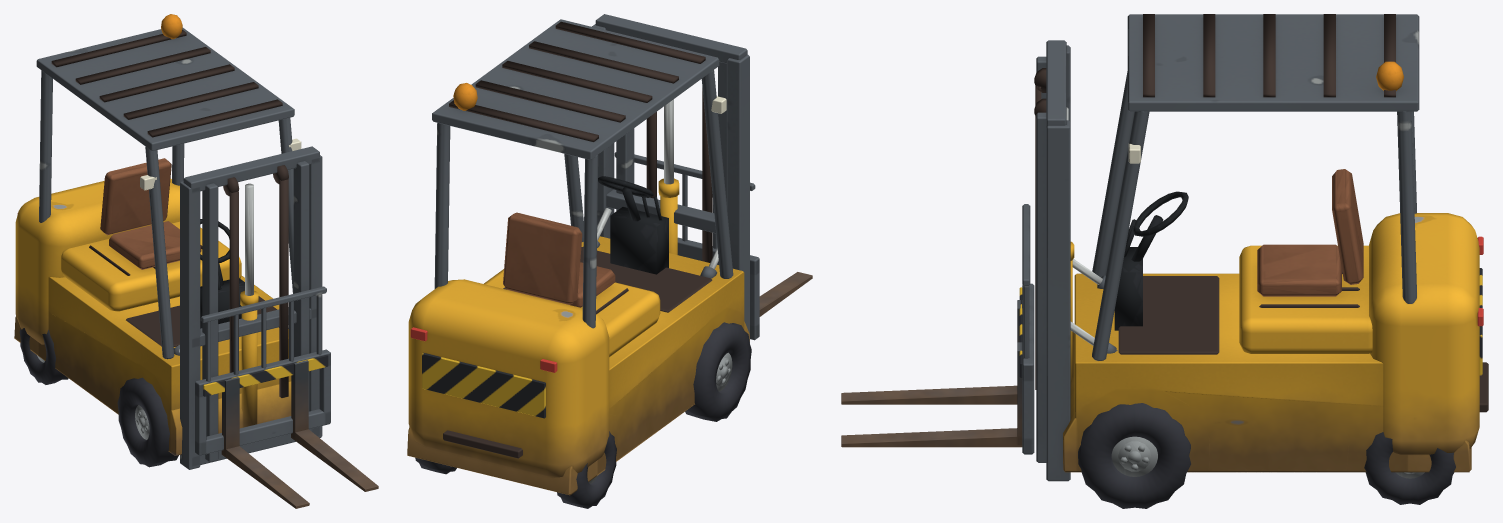
File: Works_Forklift.fbx
3 renders of one model, left to right at view 1: azimuth 30°, elevation 25°; view 2: azimuth 150°, elevation 25°; view 3: azimuth 270°, elevation 25°, orthographic. The views are drawn at different scales.
Parts seen in each view (by area): view 1: Body, Mast, Forks; view 2: Body, Mast, Forks; view 3: Body, Mast, Forks.
Boxes of the visible parts, left/top/right/bottom form: Body: left=14, top=14, right=301, bottom=467; Mast: left=180, top=146, right=322, bottom=469; Forks: left=195, top=286, right=378, bottom=508; Body: left=407, top=19, right=751, bottom=508; Mast: left=592, top=14, right=749, bottom=343; Forks: left=614, top=152, right=812, bottom=340; Body: left=1063, top=14, right=1488, bottom=508; Mast: left=1034, top=40, right=1074, bottom=481; Forks: left=841, top=204, right=1034, bottom=454.
Size of the model in its own units: 1.21 by 2.37 by 3.22.
Materials: 1 (1 with a texture image).
